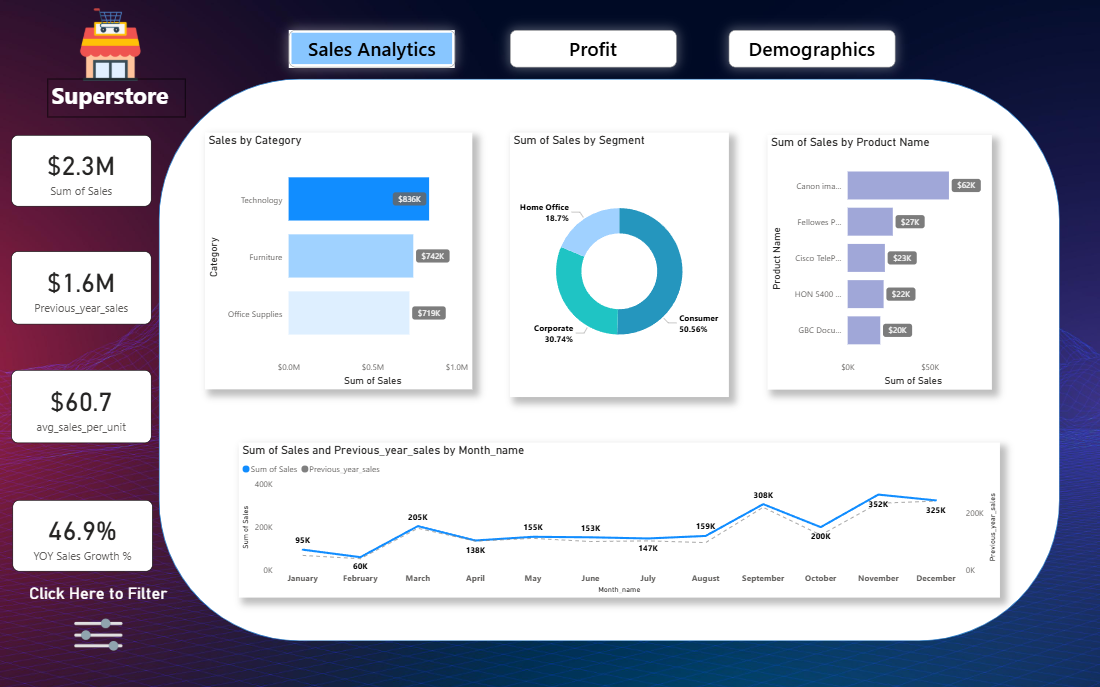

The dashboard page shown, as its layout file describes it:
{"tool":"powerbi","page":{"name":"Page 1","canvas":[1600,1000],"ordinal":0},"visuals":[{"type":"actionButton","title":"Profit","box":[742,44,242,54],"z":0,"group":"g2"},{"type":"actionButton","title":"Demographics","box":[1060,44,242,54],"z":0,"group":"g3"},{"type":"shape","box":[231.3,114.9,1310.4,817.9],"z":0},{"type":"actionButton","title":"Sales analytics","box":[420,44,242,54],"z":1000,"group":"g1"},{"type":"card","fields":{"Values":["Sum(Sample - Superstore.Sales)"]},"box":[16,196,204,104],"z":1000},{"type":"barChart","title":"Sales by Category","fields":{"Category":["Sample - Superstore.Category"],"Y":["Sum(Sample - Superstore.Sales)"]},"box":[298.6,193.1,388.9,373.6],"z":2000},{"type":"donutChart","fields":{"Y":["Sum(Sample - Superstore.Sales)"],"Category":["Sample - Superstore.Segment"]},"box":[741.7,193.3,318.3,385],"z":3000},{"type":"barChart","fields":{"Category":["Sample - Superstore.Product Name"],"Y":["Sum(Sample - Superstore.Sales)"]},"box":[1116.7,196.7,326.7,370],"z":4000},{"type":"lineChart","fields":{"Y":["Sum(Sample - Superstore.Sales)"],"Y2":["Date_table.Previous_year_sales"],"Category":["Date_table.Month_name"]},"box":[347.8,643.3,1107.5,225.4],"z":5000},{"type":"card","fields":{"Values":["Date_table.Previous_year_sales"]},"box":[16,366,204,106],"z":6000},{"type":"card","fields":{"Values":["Date_table.avg_sales_per_unit"]},"box":[16,538,204,106],"z":7000},{"type":"card","fields":{"Values":["Date_table.YOY Sales Growth %"]},"box":[18,728,204,104],"z":8000},{"type":"image","box":[78,7,164,115],"z":9000},{"type":"textbox","title":"Superstore","box":[69,115,201,56],"z":10000},{"type":"group","id":"g1","title":"Sales Analytics Group","box":[420,44,242,54],"z":11000},{"type":"group","id":"g2","title":"Profit Highlight Group","box":[742,44,242,54],"z":12000},{"type":"group","id":"g3","title":"Demographics Group","box":[1060,44,242,54],"z":13000},{"type":"image","title":"Click Here to Filter","box":[29.2,848.3,227.5,120.8],"z":14000}]}

Visuals, with their boxes in screenshot pixels (x1, y1, x2, y2), scaled from the page's 1600x1000 canvas onto the 1100x687 screenshot:
"Profit" actionButton: left=510, top=30, right=676, bottom=67
"Demographics" actionButton: left=729, top=30, right=895, bottom=67
shape: left=159, top=79, right=1060, bottom=641
"Sales analytics" actionButton: left=289, top=30, right=455, bottom=67
card - Sum(Sample - Superstore.Sales): left=11, top=135, right=151, bottom=206
"Sales by Category" barChart: left=205, top=133, right=473, bottom=389
donutChart - Sum(Sample - Superstore.Sales) x Sample - Superstore.Segment: left=510, top=133, right=729, bottom=397
barChart - Sample - Superstore.Product Name x Sum(Sample - Superstore.Sales): left=768, top=135, right=992, bottom=389
lineChart - Sum(Sample - Superstore.Sales) x Date_table.Previous_year_sales: left=239, top=442, right=1001, bottom=597
card - Date_table.Previous_year_sales: left=11, top=251, right=151, bottom=324
card - Date_table.avg_sales_per_unit: left=11, top=370, right=151, bottom=442
card - Date_table.YOY Sales Growth %: left=12, top=500, right=153, bottom=572
image: left=54, top=5, right=166, bottom=84
"Superstore" textbox: left=47, top=79, right=186, bottom=117
"Sales Analytics Group" group: left=289, top=30, right=455, bottom=67
"Profit Highlight Group" group: left=510, top=30, right=676, bottom=67
"Demographics Group" group: left=729, top=30, right=895, bottom=67
"Click Here to Filter" image: left=20, top=583, right=176, bottom=666
